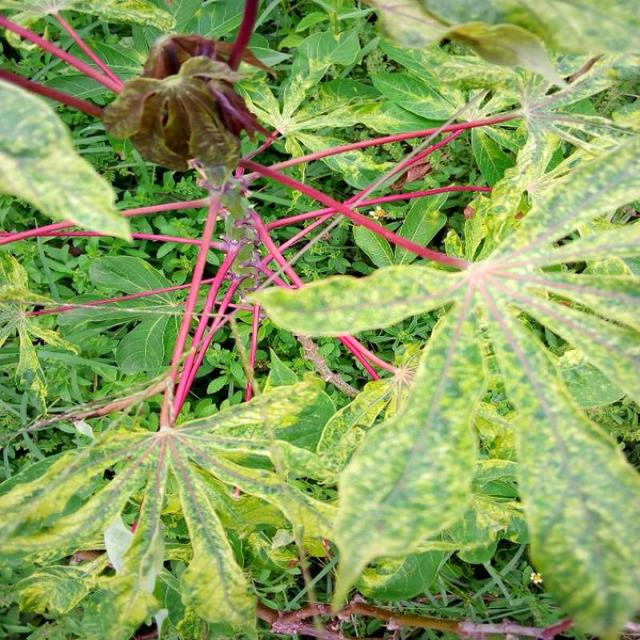cassava leaf: (2, 1, 640, 638), (247, 127, 640, 636), (328, 297, 490, 611), (1, 76, 134, 244)
